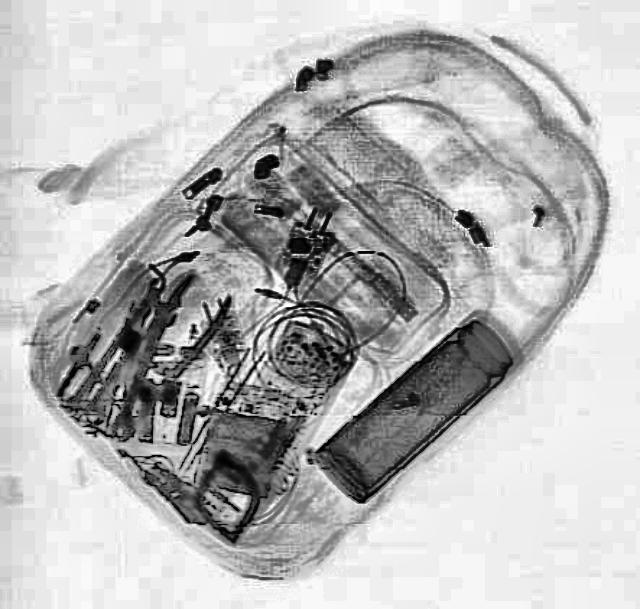Wrench: (103, 295, 179, 443)
